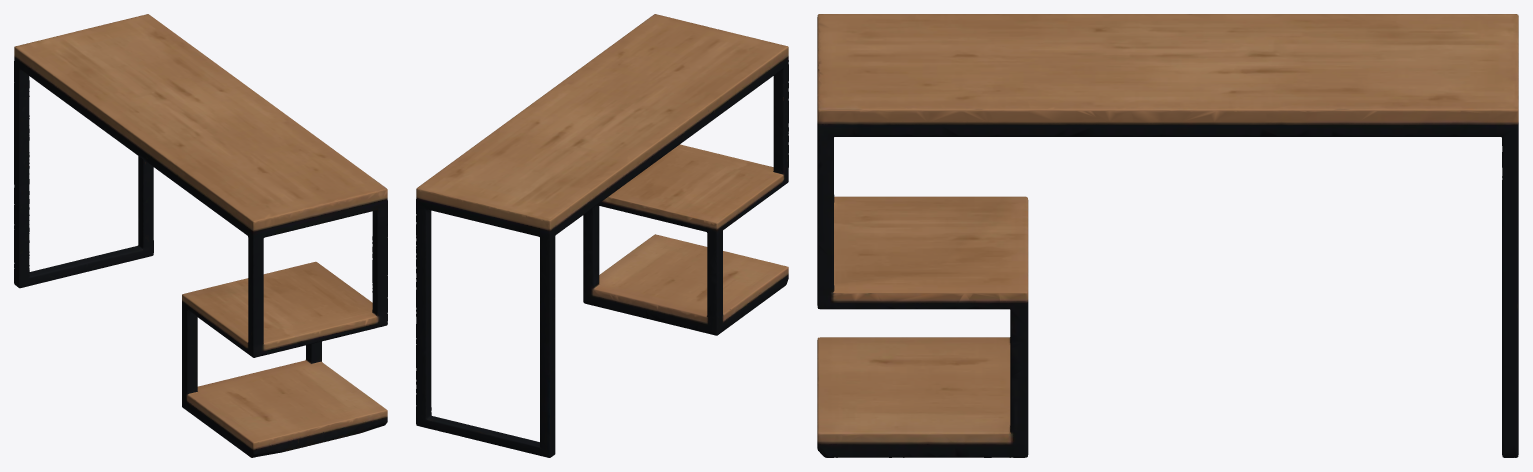
File: Industrial Style Desk with Integrated Side Storage [Bh-10P].glb
The picture shows the model from 3 angles, left to right: view 1: azimuth 30°, elevation 25°; view 2: azimuth 150°, elevation 25°; view 3: azimuth 270°, elevation 25°; orthographic projection. The views are drawn at different scales.
Parts seen in each view (by area): view 1: geometry_0; view 2: geometry_0; view 3: geometry_0.
Boxes of the visible parts, x1=… form: geometry_0: x1=14, y1=14, x2=387, y2=457; geometry_0: x1=416, y1=14, x2=788, y2=457; geometry_0: x1=817, y1=14, x2=1518, y2=457.
Size of the model in its own units: 0.3268 by 0.5517 by 1.
Materials: 1 (1 with a texture image).
